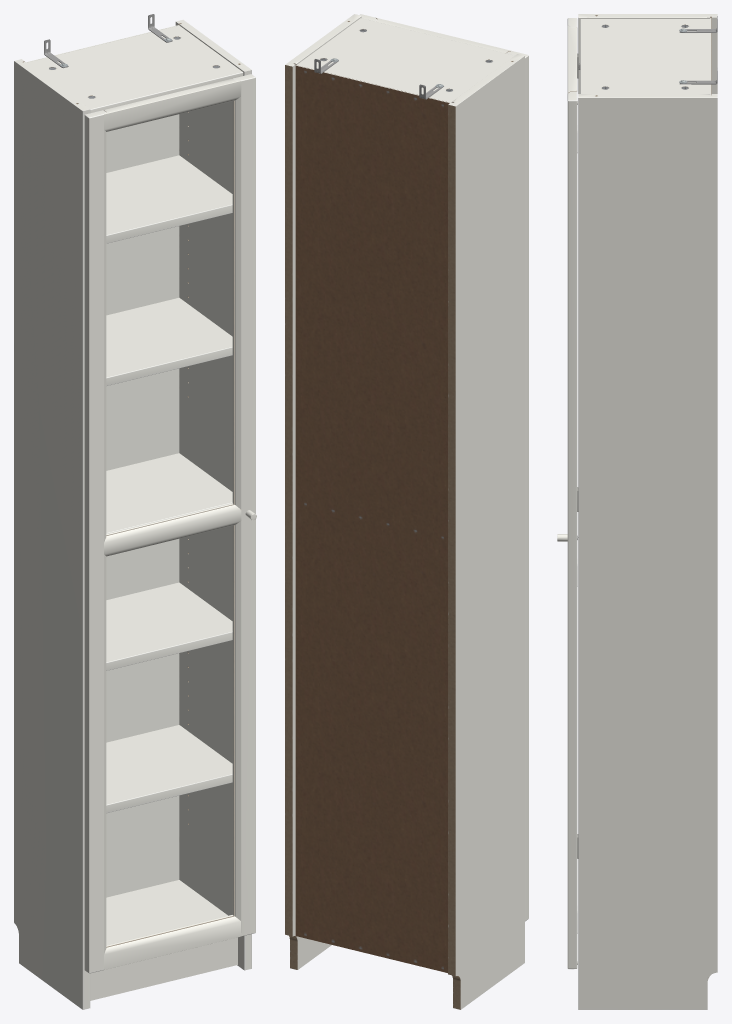
The model's file is 12 - BILLY OXBERG Bookcase with glass door - whiteglass 40x30x202 cm.glb.
3 views of the same model, side by side, from view 1: azimuth 30°, elevation 25°; view 2: azimuth 150°, elevation 25°; view 3: azimuth 270°, elevation 25° (orthographic).
Parts seen in each view (by area): view 1: Mesh_0; view 2: Mesh_0; view 3: Mesh_0.
Part boxes in pixels (x1,y1,x2,y2): Mesh_0: (14, 14, 256, 1009); Mesh_0: (285, 14, 528, 1009); Mesh_0: (557, 14, 717, 1009).
Bounding box in the file's own units: 0.398 × 2.05 × 0.3219.
Materials: 2 (1 with a texture image).
